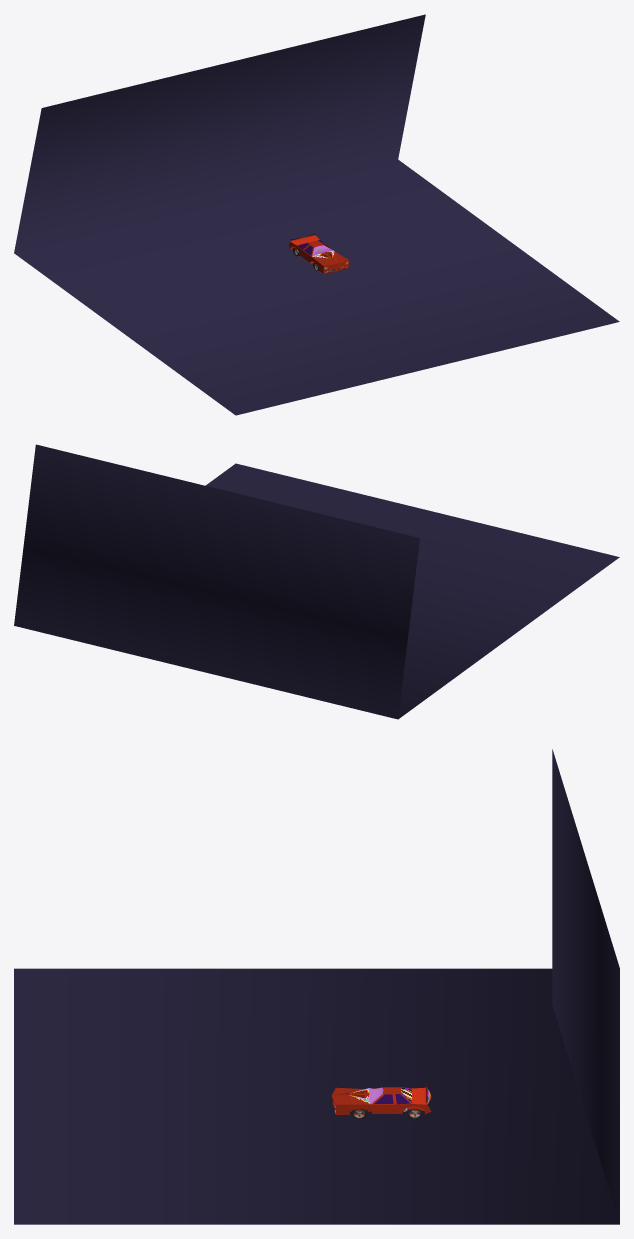
File: mach9Final.fbx
3 views of the same model, one above another, from view 1: azimuth 30°, elevation 25°; view 2: azimuth 150°, elevation 25°; view 3: azimuth 270°, elevation 25° (orthographic). The views are drawn at different scales.
Visible parts, largest first — view 1: Bg, Cube.002; view 2: Bg; view 3: Bg, Cube.002.
Boxes of the visible parts, box(x1,y1,x2,y2) form: Bg: box(14, 14, 619, 415); Cube.002: box(289, 233, 348, 273); Bg: box(14, 444, 619, 719); Bg: box(14, 749, 619, 1224); Cube.002: box(331, 1084, 431, 1114).
Bounding box in the file's own units: 4009 × 1609 × 3979.
